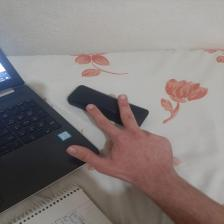three: (62, 92, 181, 184)
